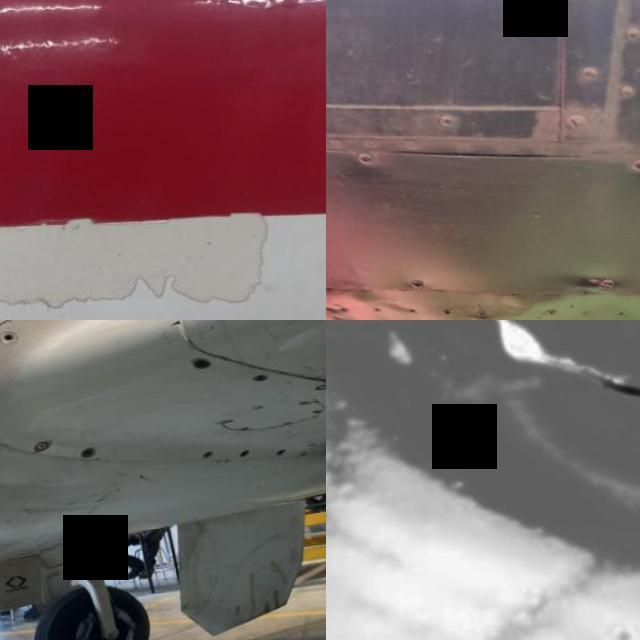Crack: (326, 320, 640, 472), (0, 196, 278, 320), (154, 320, 186, 332)
Dent: (326, 266, 557, 320)
Missing_Fastener: (75, 446, 96, 462), (186, 359, 210, 372), (0, 330, 18, 345), (246, 376, 266, 387), (232, 449, 246, 464), (268, 450, 286, 461)
